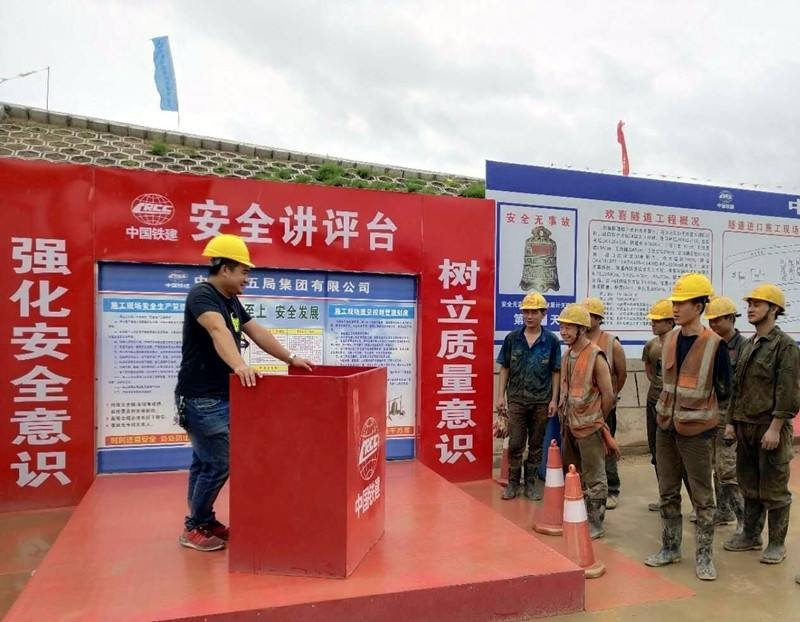yellow: (203, 229, 252, 299), (669, 272, 711, 329), (743, 282, 787, 336), (703, 294, 741, 340), (554, 303, 590, 347), (516, 290, 549, 333), (646, 297, 678, 336)
